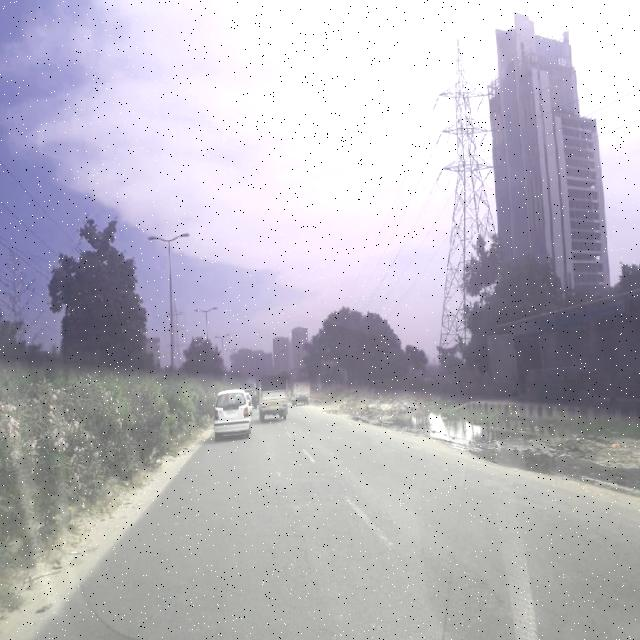D20: (412, 524, 540, 638), (260, 486, 345, 614)
D44: (340, 488, 402, 550)
